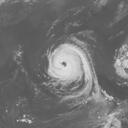cyclone: (47, 42, 98, 88)
